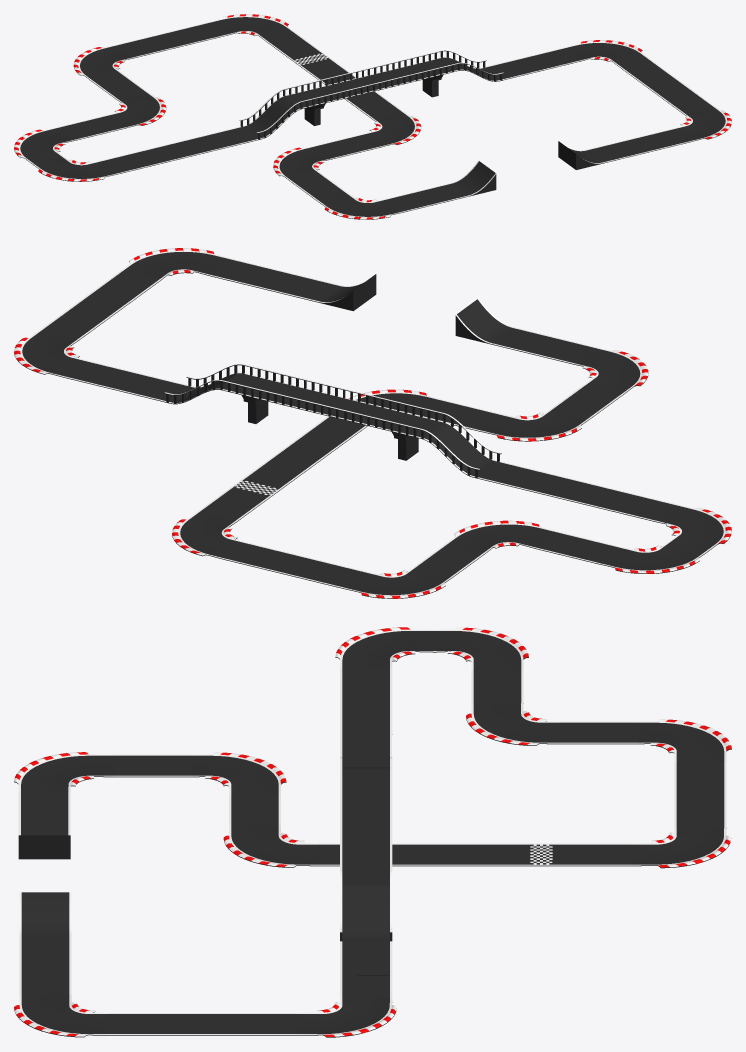
File: track.obj
3 views of the same model, one above another, from view 1: azimuth 30°, elevation 25°; view 2: azimuth 150°, elevation 25°; view 3: azimuth 270°, elevation 25° (orthographic). The views are drawn at different scales.
Visible parts, largest first — view 1: Cube.003, Cube.007, Cube.025, Cube.011, Cube.010, Cube.015, Cube.001, Cube.021, Cube.023, Cube.013, Cube.006, Cube.017 (+19 smaller); view 2: Cube.003, Cube.013, Cube.023, Cube.006, Cube.015, Cube.001, Cube.011, Cube.025, Cube.010, Cube.007, Cube.017, Cube.002 (+20 smaller); view 3: Cube.003, Cube.010, Cube.007, Cube.015, Cube.002, Cube.006, Cube.001, Cube.011, Cube.021, Cube.025, Cube.013, Cube.023 (+19 smaller).
Boxes of the visible parts, bbox=[...] form: Cube.003: bbox=[193, 50, 550, 151]; Cube.007: bbox=[31, 155, 116, 181]; Cube.025: bbox=[317, 193, 402, 219]; Cube.011: bbox=[211, 14, 295, 40]; Cube.010: bbox=[564, 40, 649, 66]; Cube.015: bbox=[670, 106, 731, 142]; Cube.001: bbox=[105, 93, 166, 129]; Cube.021: bbox=[360, 112, 421, 147]; Cube.023: bbox=[273, 145, 334, 181]; Cube.013: bbox=[73, 44, 135, 80]; Cube.006: bbox=[14, 127, 75, 163]; Cube.017: bbox=[432, 160, 496, 200]; Cube.003: bbox=[105, 364, 560, 493]; Cube.013: bbox=[341, 567, 452, 598]; Cube.023: bbox=[477, 410, 588, 441]; Cube.006: bbox=[595, 543, 706, 573]; Cube.015: bbox=[122, 248, 232, 279]; Cube.001: bbox=[448, 520, 558, 551]; Cube.011: bbox=[172, 512, 244, 559]; Cube.025: bbox=[575, 348, 648, 394]; Cube.010: bbox=[14, 330, 86, 377]; Cube.007: bbox=[658, 505, 731, 552]; Cube.017: bbox=[455, 298, 537, 350]; Cube.002: bbox=[294, 274, 376, 311]; Cube.003: bbox=[340, 733, 392, 975]; Cube.010: bbox=[296, 997, 396, 1037]; Cube.007: bbox=[335, 627, 435, 667]; Cube.015: bbox=[14, 994, 107, 1037]; Cube.002: bbox=[19, 892, 71, 948]; Cube.006: bbox=[435, 627, 528, 670]; Cube.001: bbox=[466, 703, 559, 745]; Cube.011: bbox=[631, 828, 731, 868]; Cube.021: bbox=[223, 825, 317, 867]; Cube.025: bbox=[14, 752, 114, 791]; Cube.013: bbox=[638, 719, 731, 761]; Cube.023: bbox=[192, 752, 286, 794].
Size of the model in its own units: 534 by 27.74 by 395.
